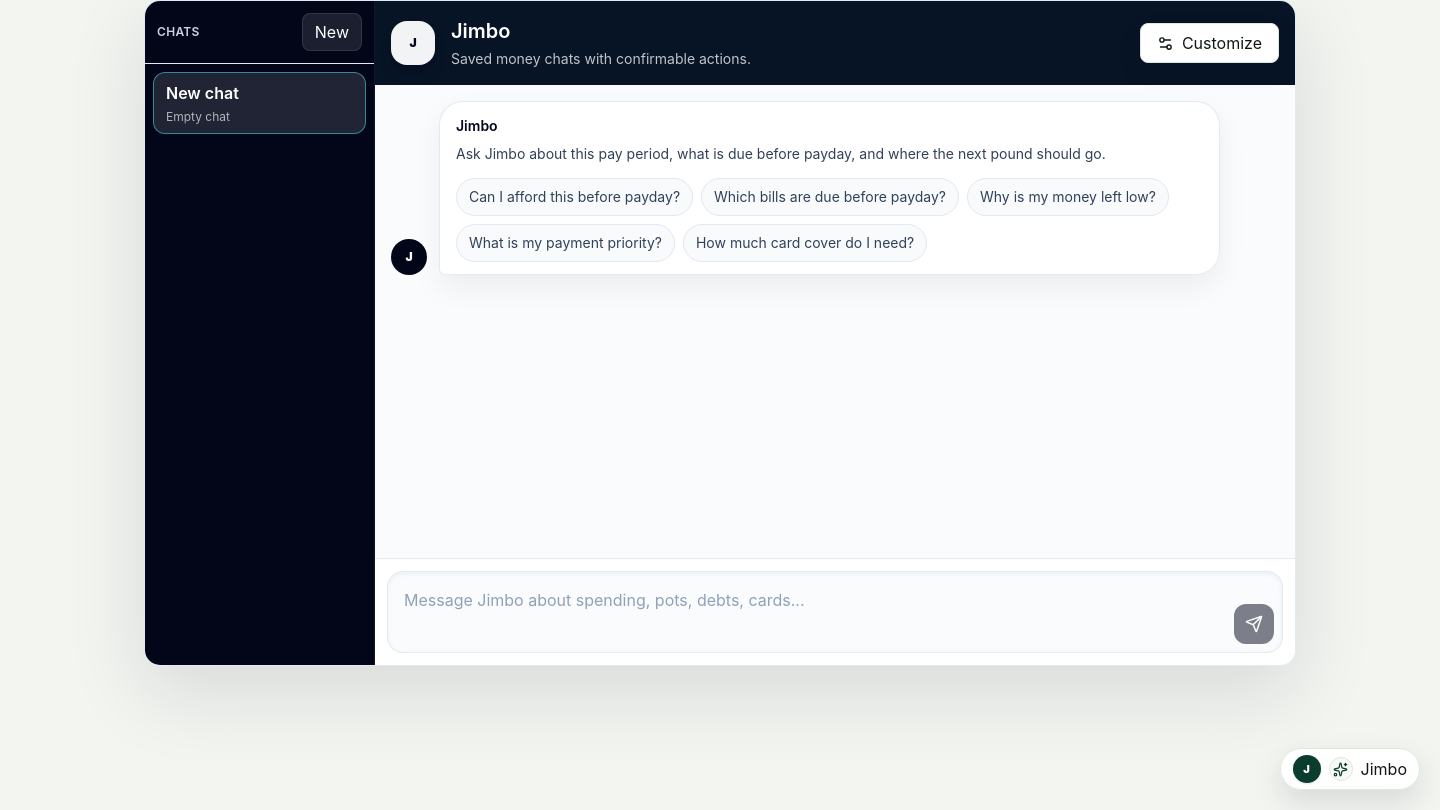
Scenario: AI page › syncs Jimbo page and floating helper conversations without render-phase console errors
This screenshot has width=1440, height=810.
In the text box labelled "Message Jimbo": (811, 612) [396,580,1226,644], type "Can I cover the card payment?"
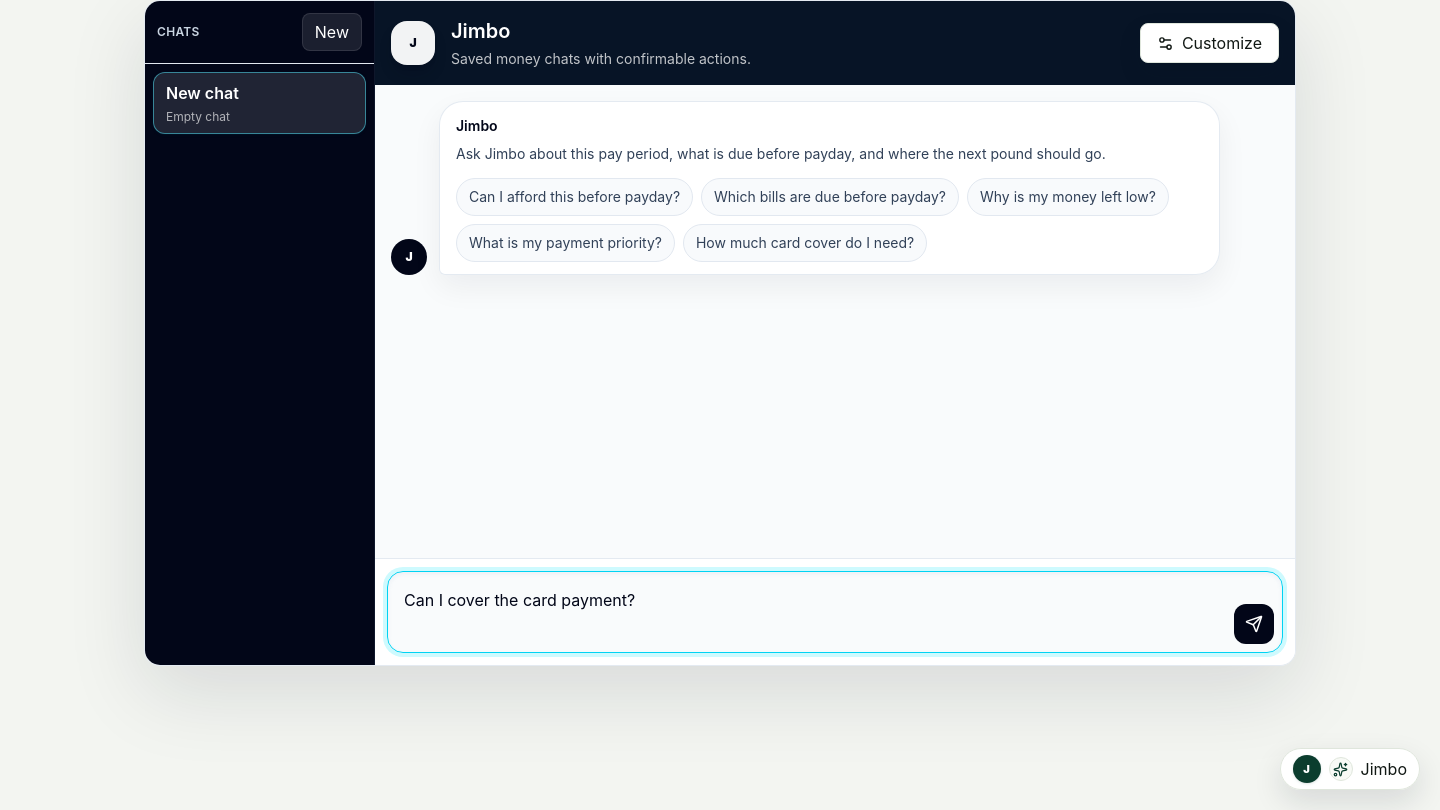
Click the button named "Send message": (1254, 624) [1234,604,1274,644]
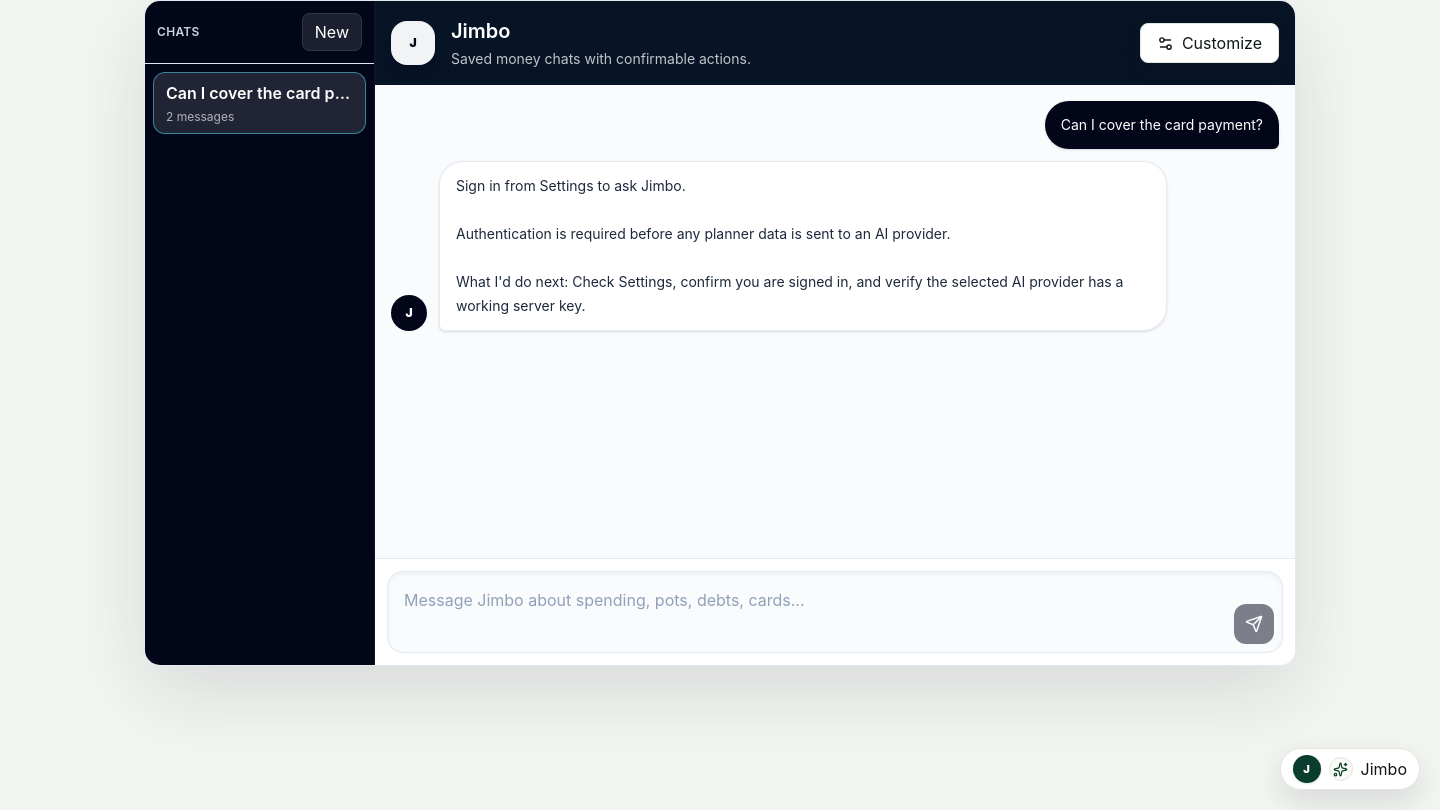
Result: the text "Sign in from Settings to ask" is shown at [456,177,1127,314]
